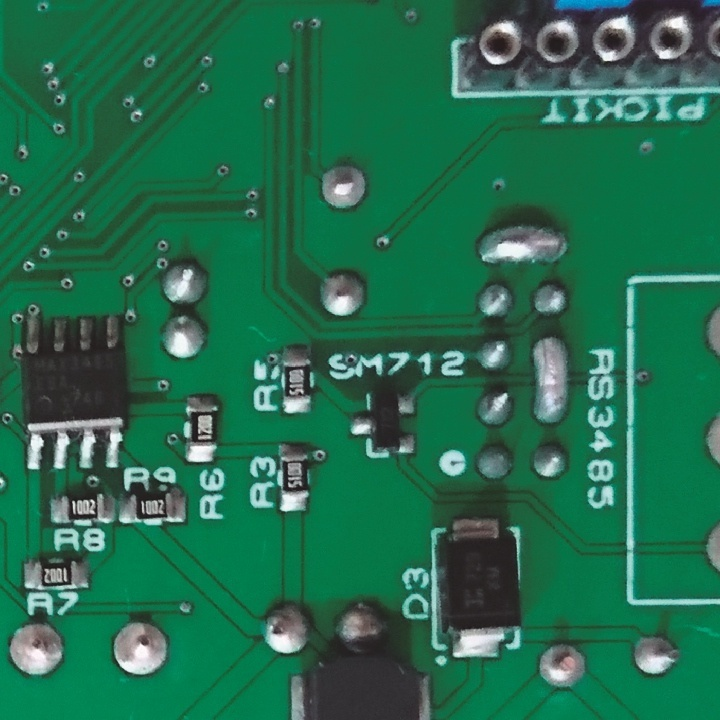F: (108, 619, 175, 678), (7, 620, 70, 678), (316, 159, 370, 220), (531, 639, 590, 693), (632, 626, 682, 680)
P: (470, 222, 576, 273), (530, 334, 575, 431)
